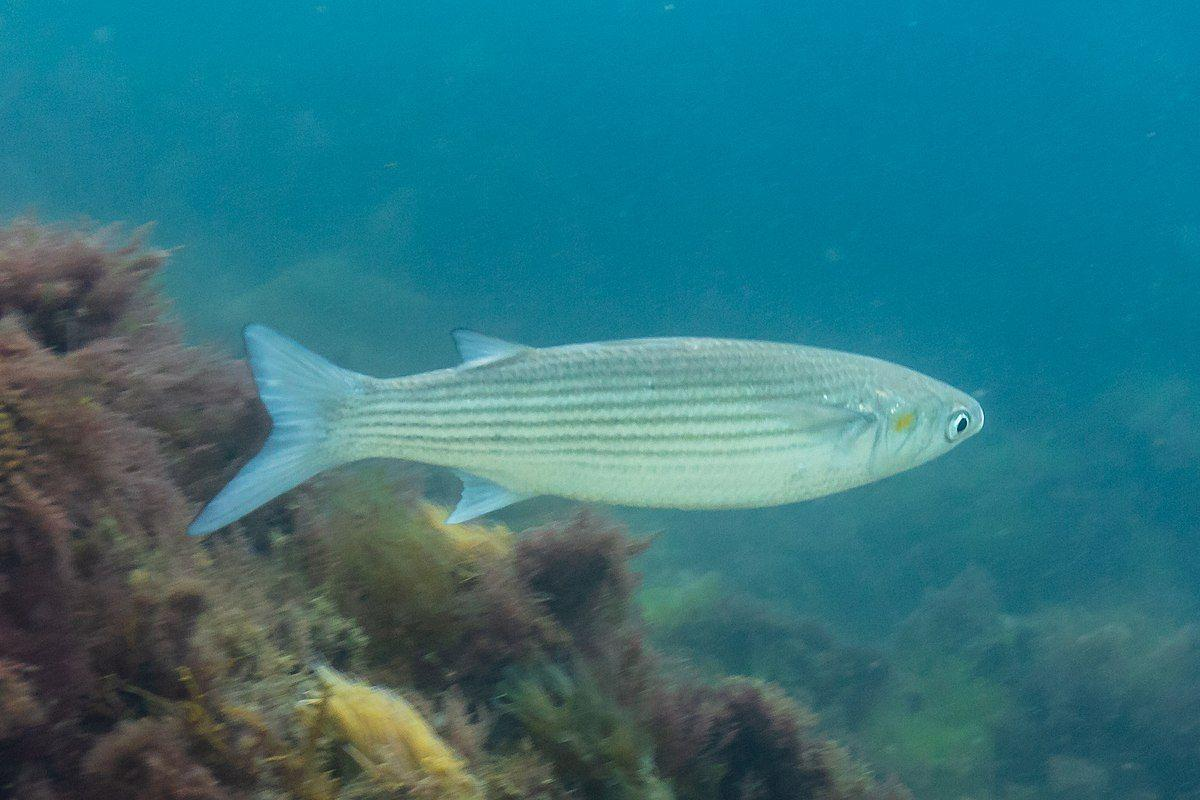Mullet: (193, 300, 986, 546)
